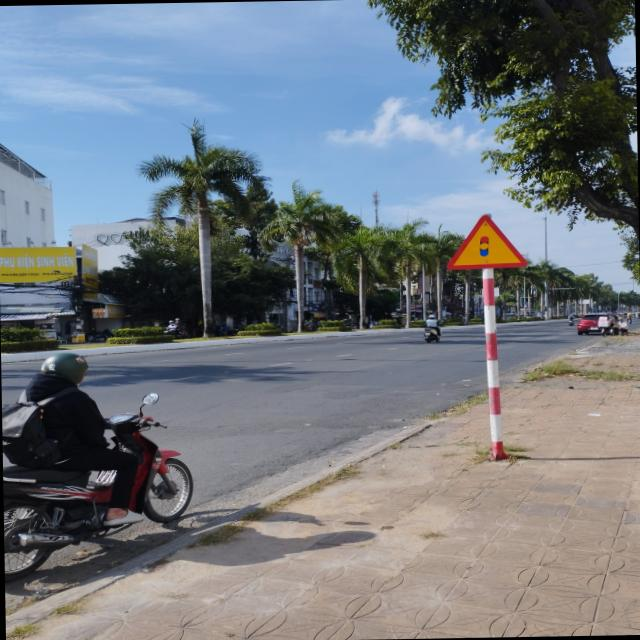Duong_Co_Go_Giam_Toc: (445, 214, 527, 269)
